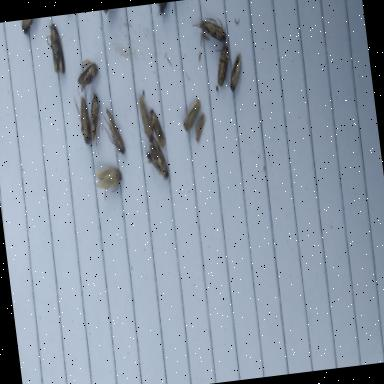pbw: (99, 106, 126, 156), (44, 22, 68, 76), (143, 137, 171, 183), (72, 89, 92, 146), (192, 15, 228, 46), (92, 162, 124, 196), (84, 92, 104, 142), (213, 43, 234, 88), (180, 97, 205, 134), (137, 95, 154, 143), (74, 61, 100, 92), (226, 52, 246, 92), (148, 109, 166, 150), (192, 114, 207, 142), (18, 20, 34, 36)
